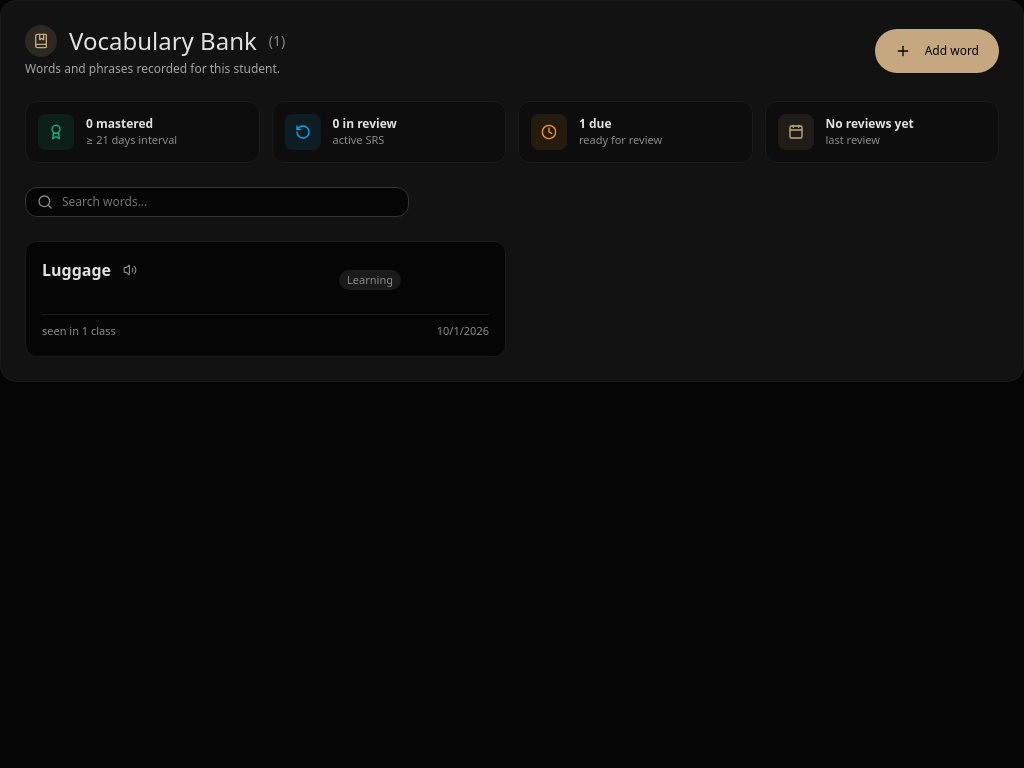
Scenario: StudentVocabularySection (Teacher View: CA03, CA04, CT03, CT04) › deduplicates terms and updates class occurrences (CA04, CT04)
This screenshot has width=1024, height=768.
Expected: the text "Luggage" is shown, [42,258,111,282]
Expected: the text "seen in 1 class" is shown, [42,323,116,340]
Add " luggage "
Click the button "Add word".
click(937, 51)  # box [875,29,999,73]
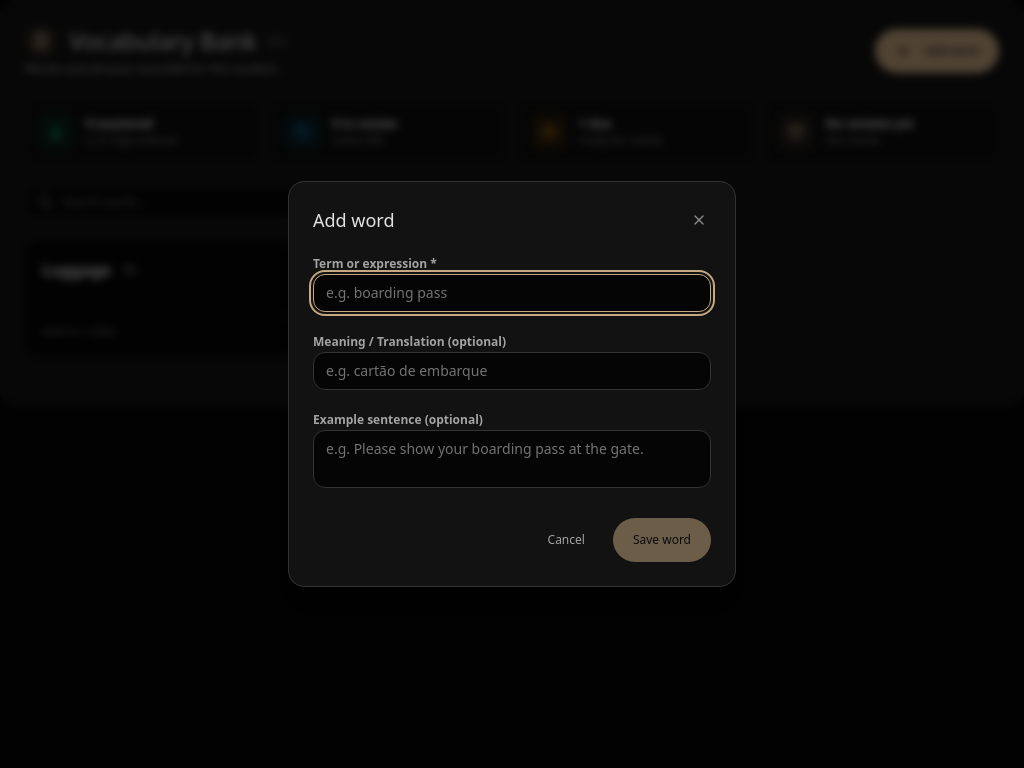
Type " luggage " into the field with placeholder "e.g. boarding pass".
click(512, 293); type(" luggage ")  # box [313,274,711,312]
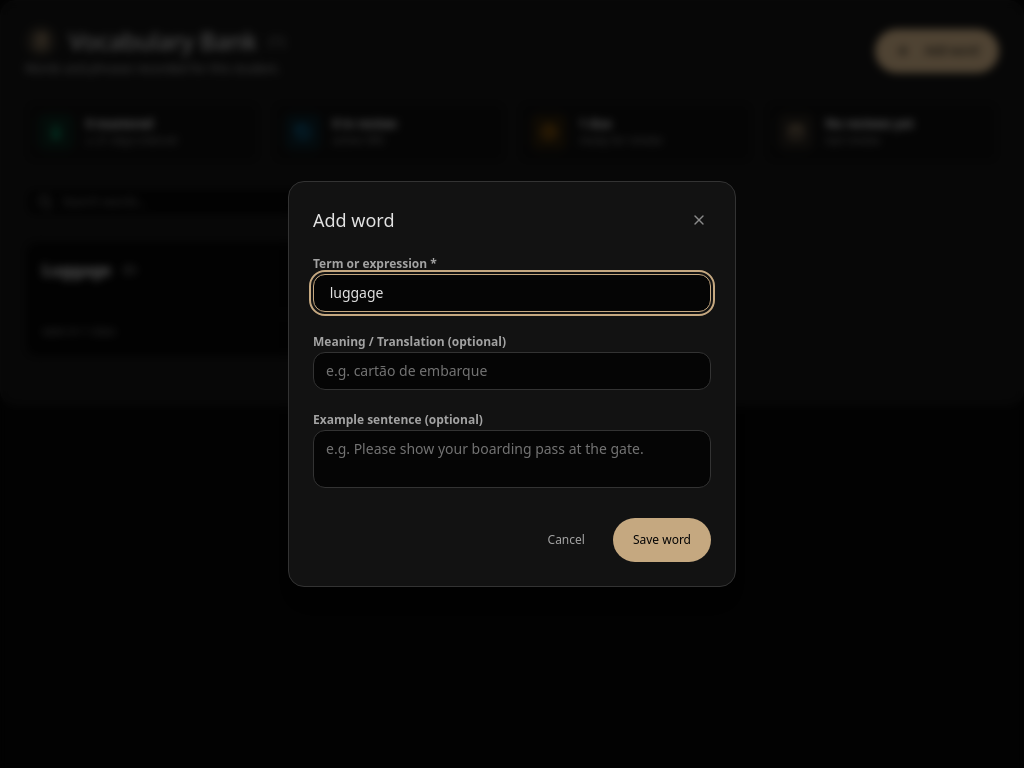
Click the button "Save word".
click(662, 540)  # box [613,518,711,562]
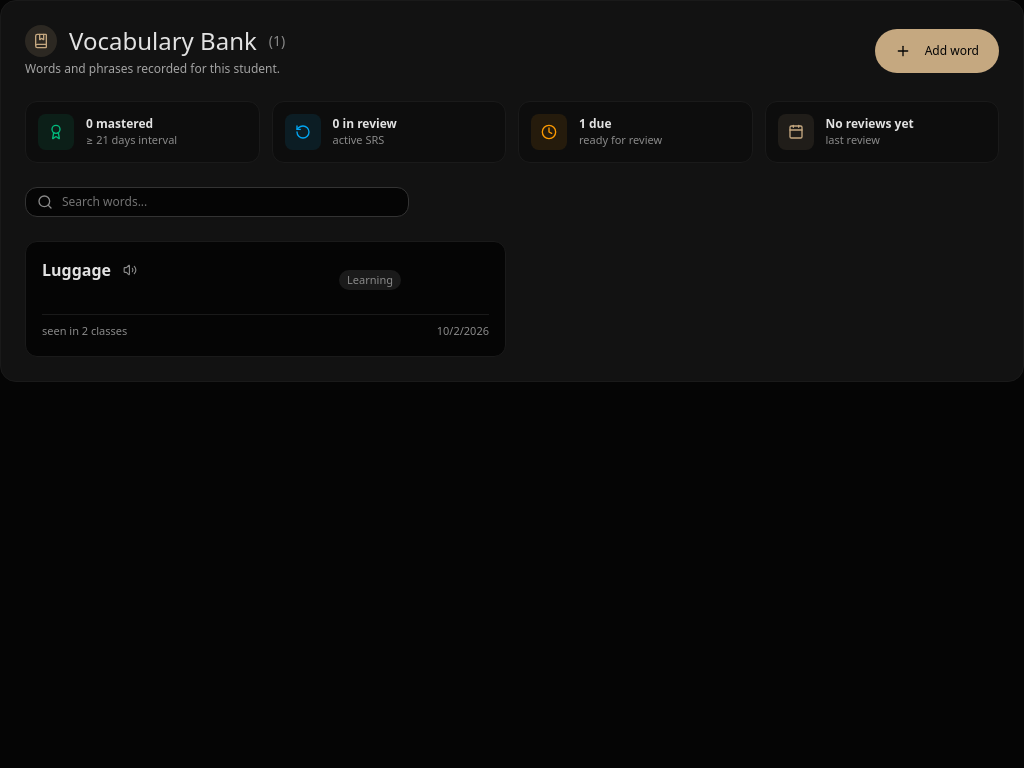
Expected: the text "Luggage" is shown once, [42,258,111,282]
Expected: the text "seen in 2 classes" is shown, [42,323,127,340]
